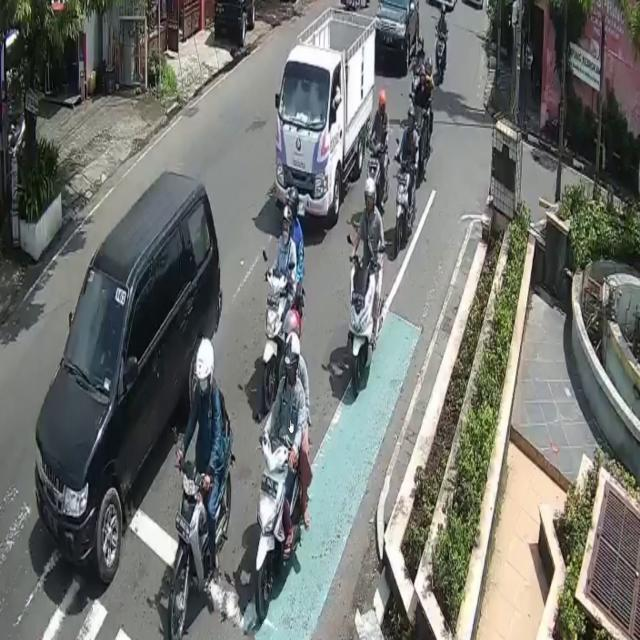car: (35, 167, 222, 587), (372, 0, 421, 75)
motorbike: (166, 461, 232, 640), (257, 433, 301, 622), (261, 269, 288, 408), (352, 257, 371, 398), (395, 155, 411, 257)
truck: (276, 5, 375, 222)
